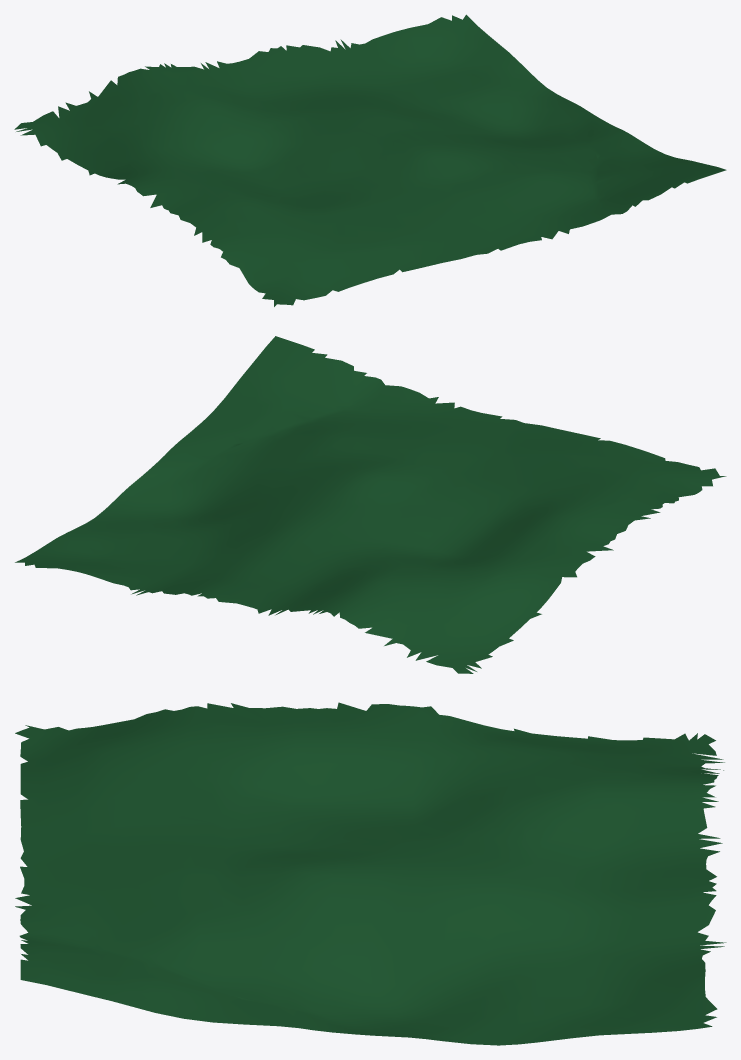
The model's file is payo_land_x3_ym2_lod1.glb.
3 renders of one model, top to bottom at view 1: azimuth 30°, elevation 25°; view 2: azimuth 150°, elevation 25°; view 3: azimuth 270°, elevation 25°, orthographic. The views are drawn at different scales.
Visible parts, largest first — view 1: payo_land_x3_ym2; view 2: payo_land_x3_ym2; view 3: payo_land_x3_ym2.
Part boxes in pixels (bbox=[...]): payo_land_x3_ym2: bbox=[14, 14, 726, 306]; payo_land_x3_ym2: bbox=[15, 336, 726, 673]; payo_land_x3_ym2: bbox=[15, 702, 726, 1045].
Size of the model in its own units: 261 by 29.4 by 266.
